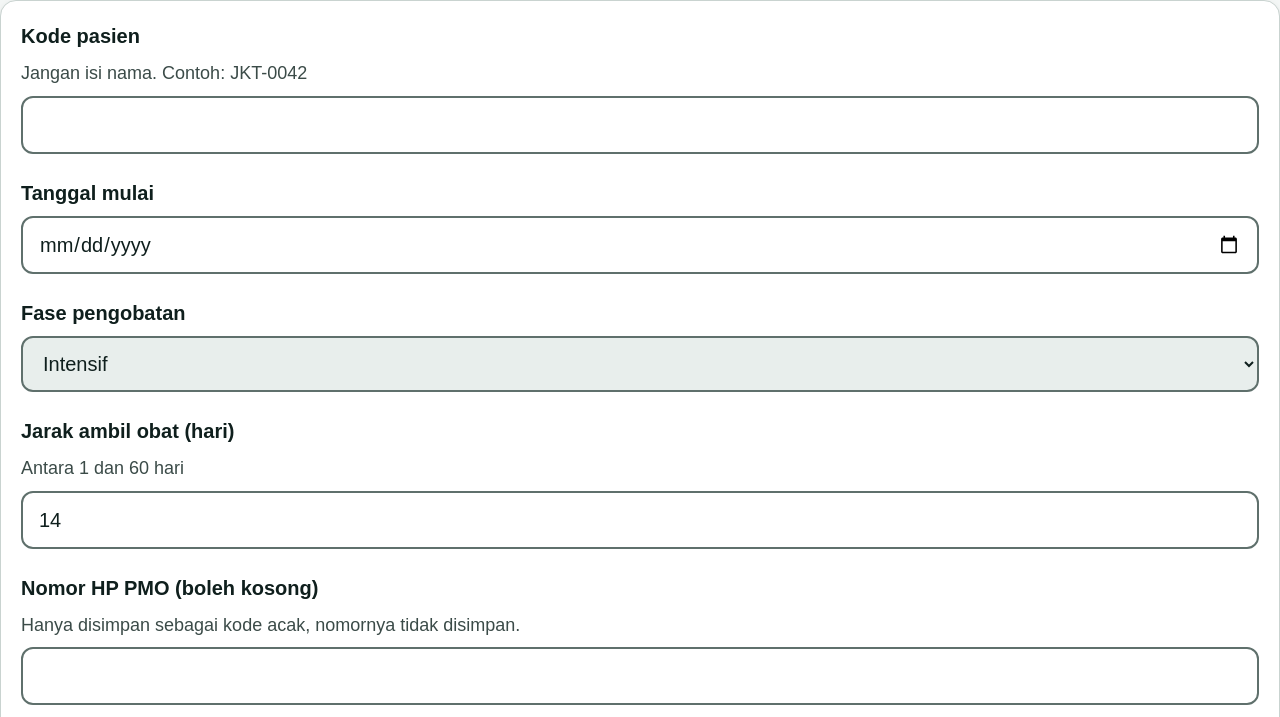
Test: registration form (5.1) › shows inline Bahasa errors and sends nothing when fields are missing
Type "Budi Santoso" into the field labelled "Kode pasien" at (640, 125), box x1=21 y1=96 x2=1259 y2=154
(page scrolled)
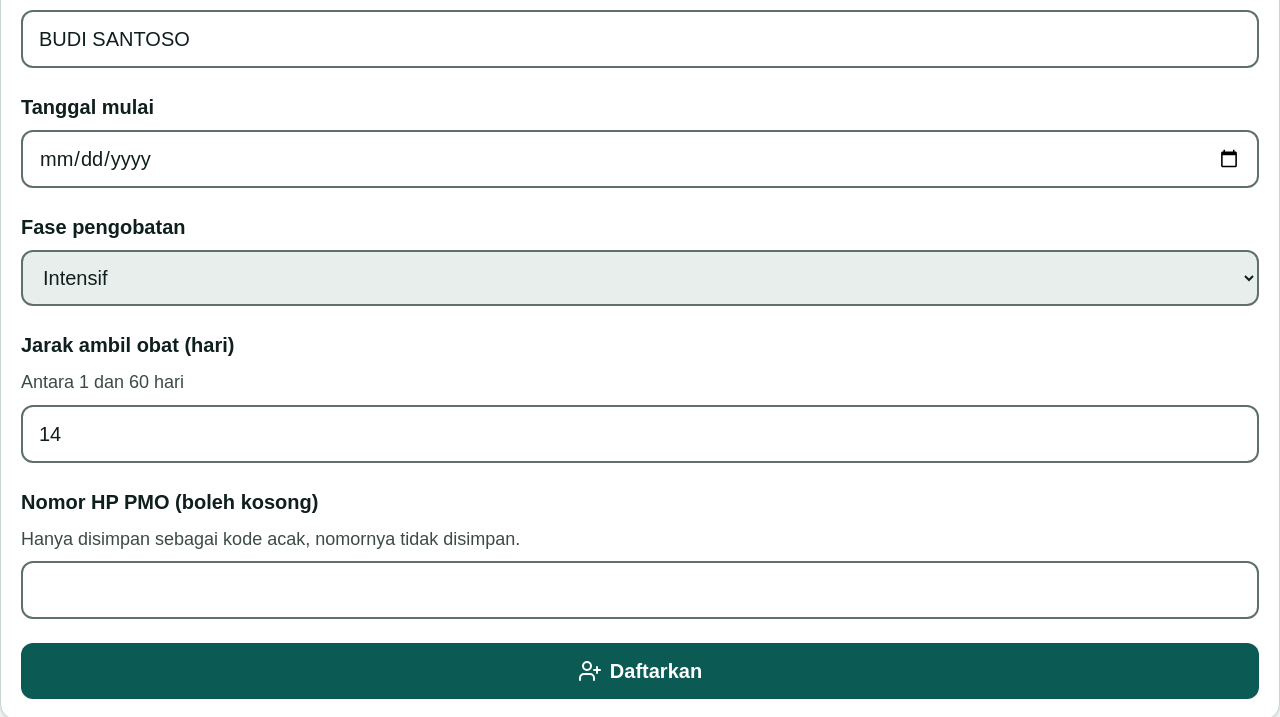
Click the button "Daftarkan" at (640, 671), box x1=21 y1=643 x2=1259 y2=699
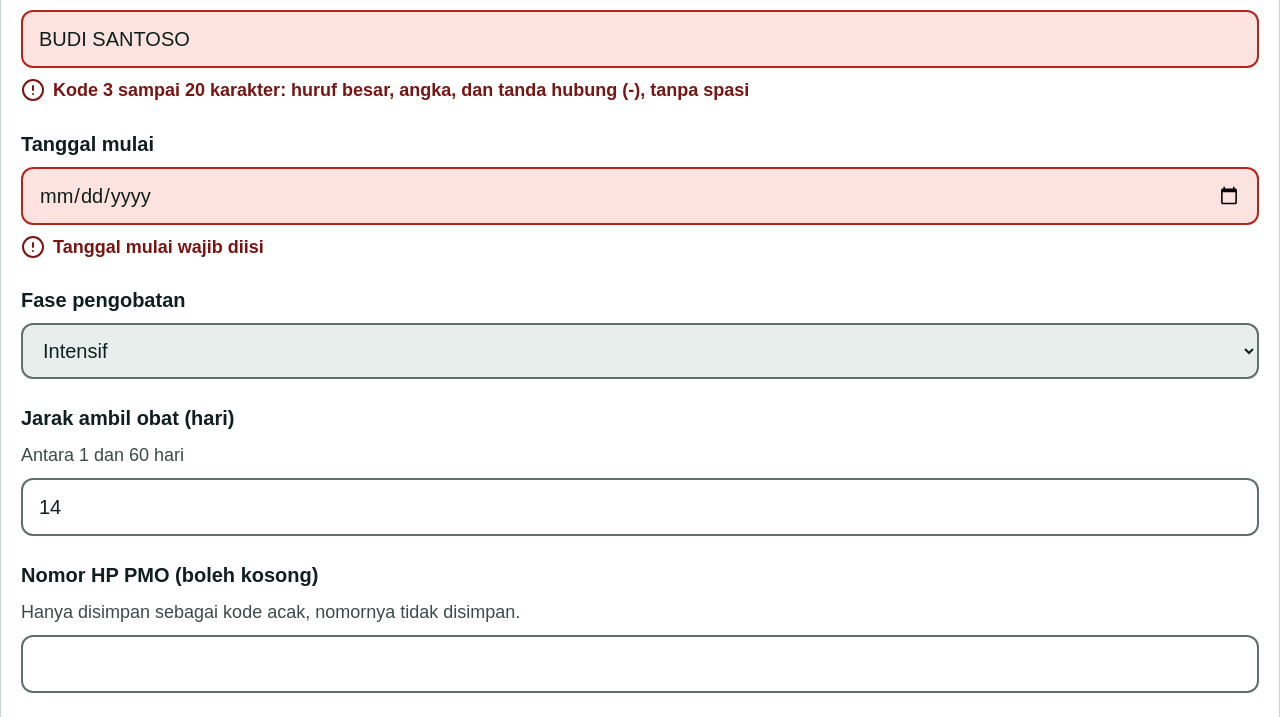
Check: the text "Tanggal mulai wajib diisi" is shown, box x1=53 y1=233 x2=264 y2=261
Check: the text "Kode 3 sampai 20 karakter: huruf besar, angka, dan tanda hubung (-), tanpa spasi" is shown, box x1=53 y1=76 x2=749 y2=105
